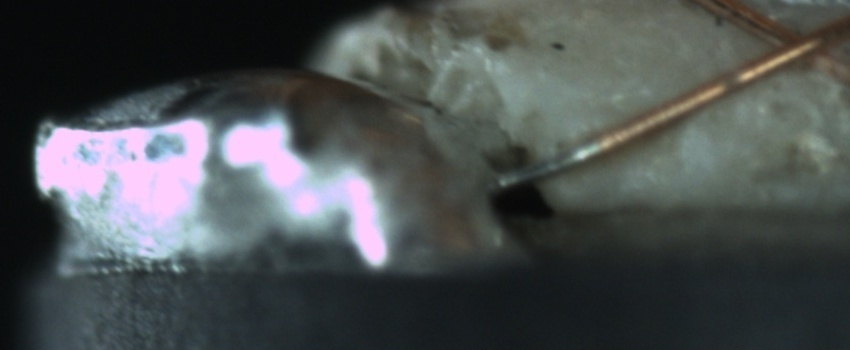CL: (747, 8, 844, 78)
TS: (496, 138, 597, 190)
TTCW: (491, 131, 610, 189)
